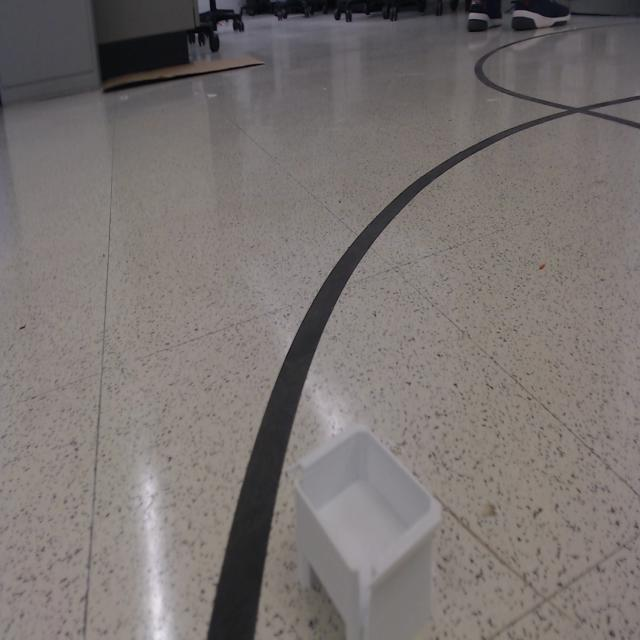wbox: (286, 420, 444, 636)
